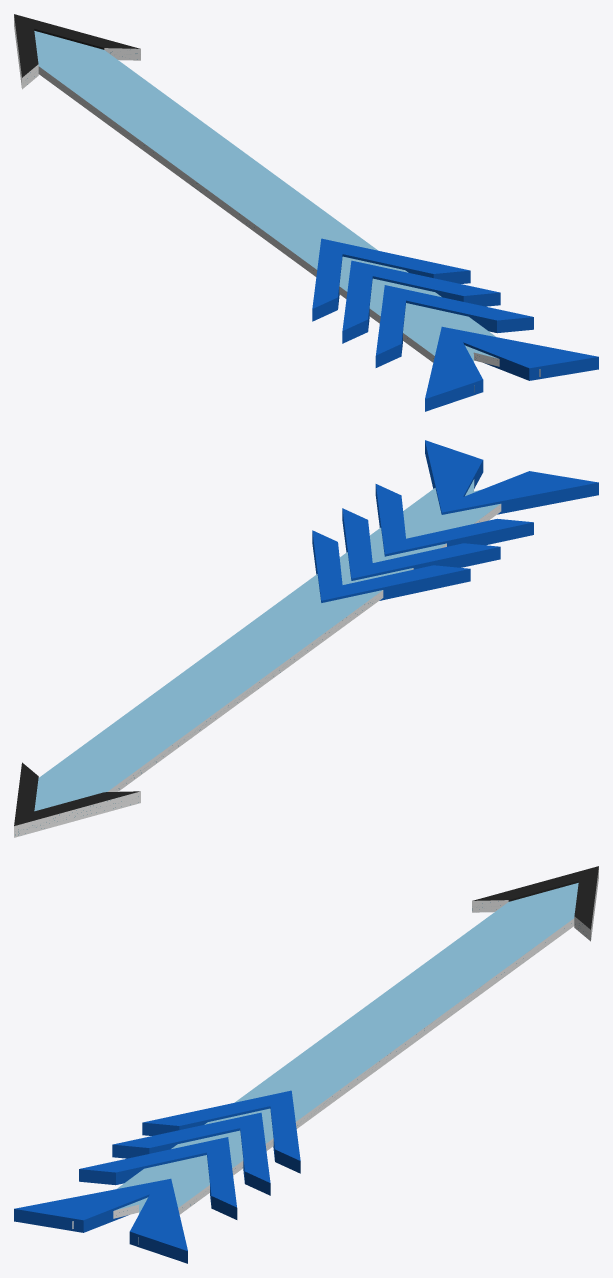
The model's file is FlechaJuego.fbx.
3 views of the same model, one above another, from view 1: azimuth 30°, elevation 25°; view 2: azimuth 150°, elevation 25°; view 3: azimuth 330°, elevation 25° (orthographic).
Parts seen in each view (by area): view 1: Plane.001; view 2: Plane.001; view 3: Plane.001.
Part boxes in pixels (left/top/right/bottom): Plane.001: left=14, top=14, right=598, bottom=411; Plane.001: left=14, top=440, right=598, bottom=837; Plane.001: left=14, top=866, right=598, bottom=1263.
Bounding box in the file's own units: 23.4 × 1.63 × 116.
1 material, 1 textured.
